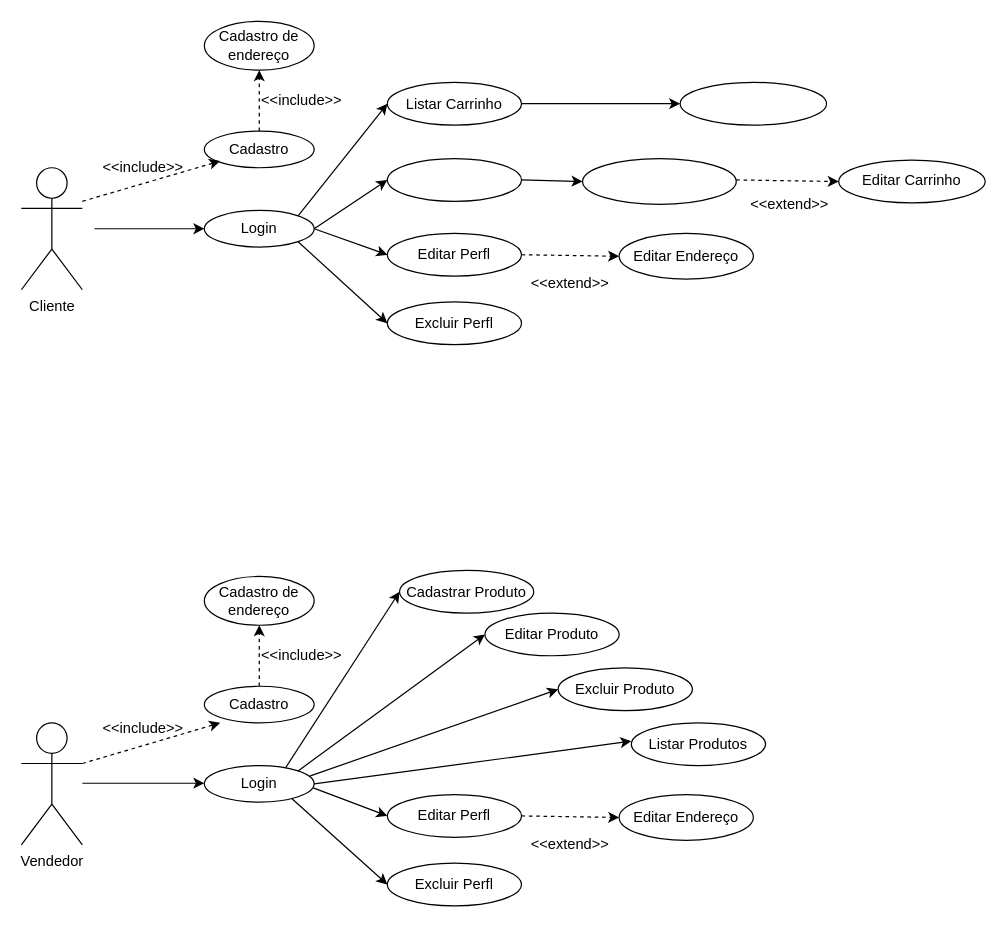
Image size: 1007x927. Some labels were removed from this diagram. Each missing label, with the centre of its shape:
"Adicionar Carrinho" goes at point (658, 180).
"Buscar Produtos" goes at point (454, 179).
"Realizar Comprar" goes at point (753, 103).
